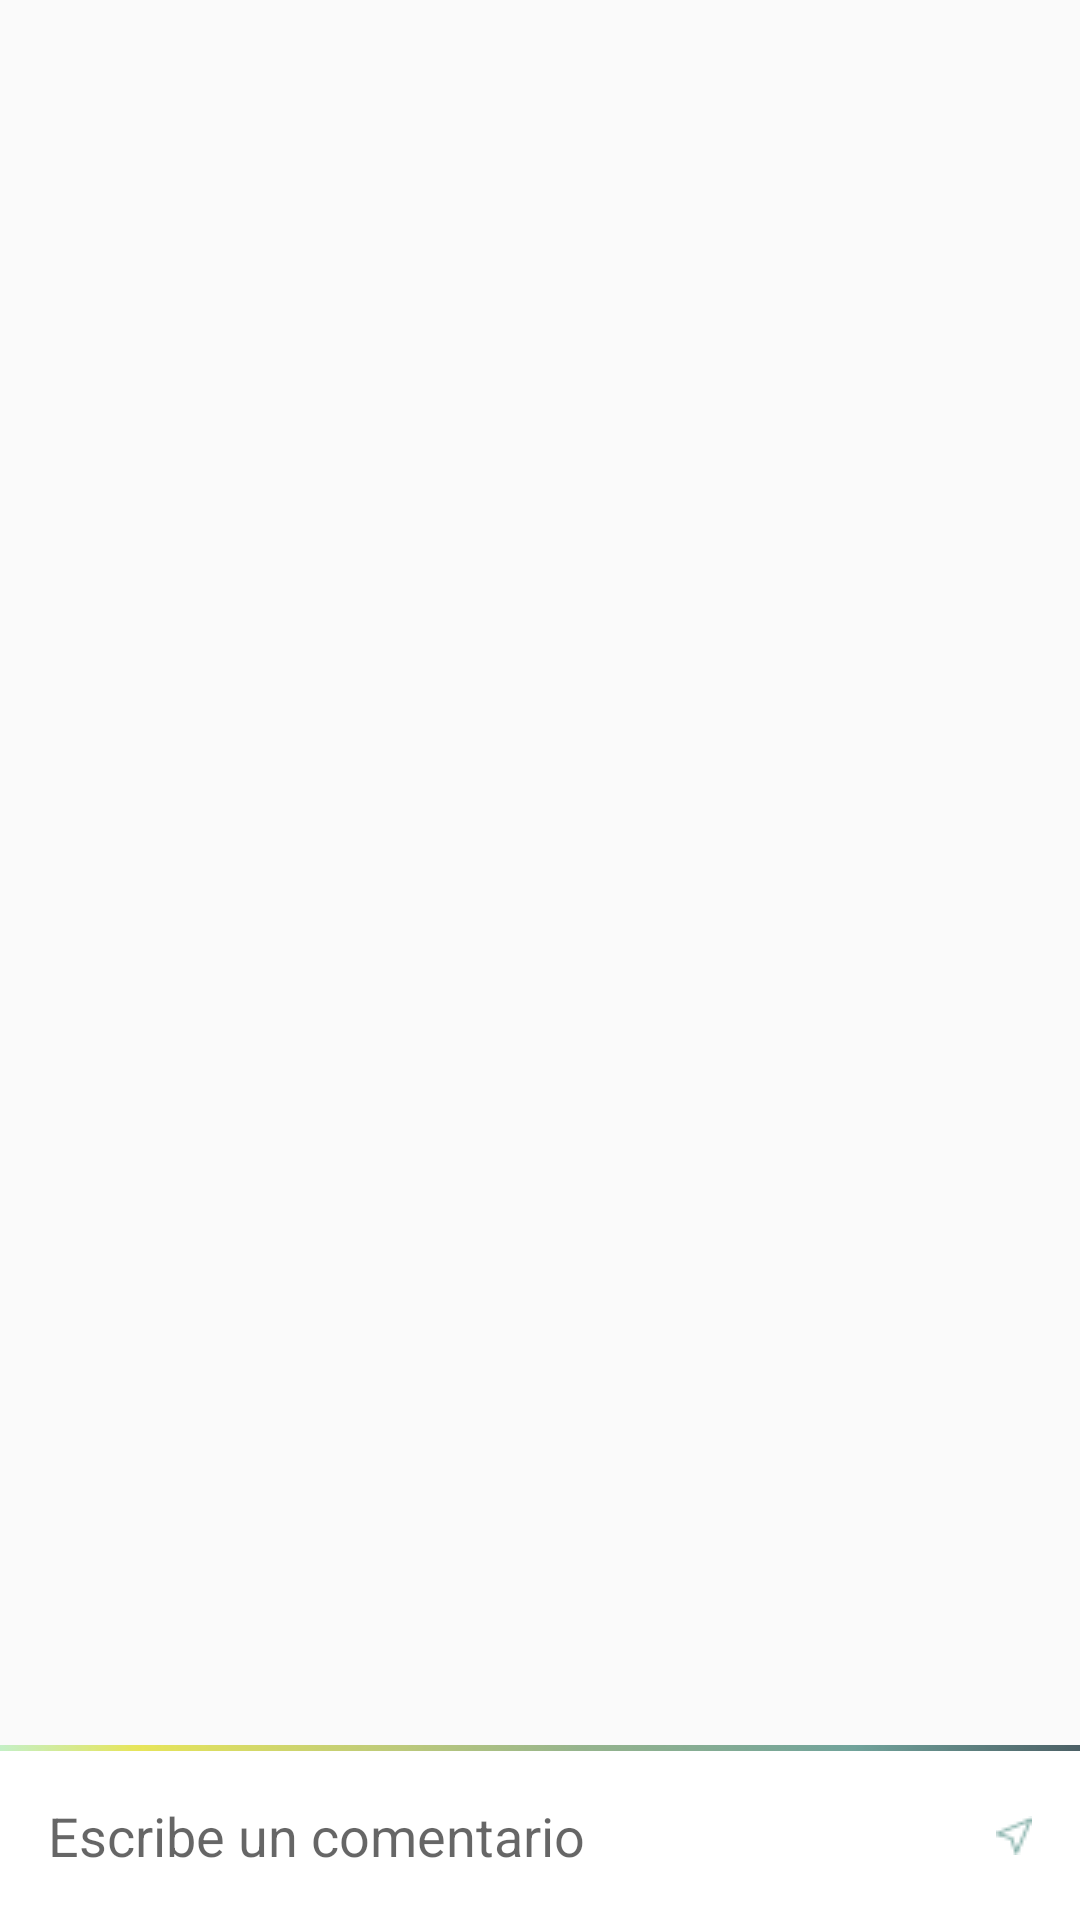

Named icons in this screenshot (1080x1920) and their centers, (x=x, y=y):
send: (x=1014, y=1836)
